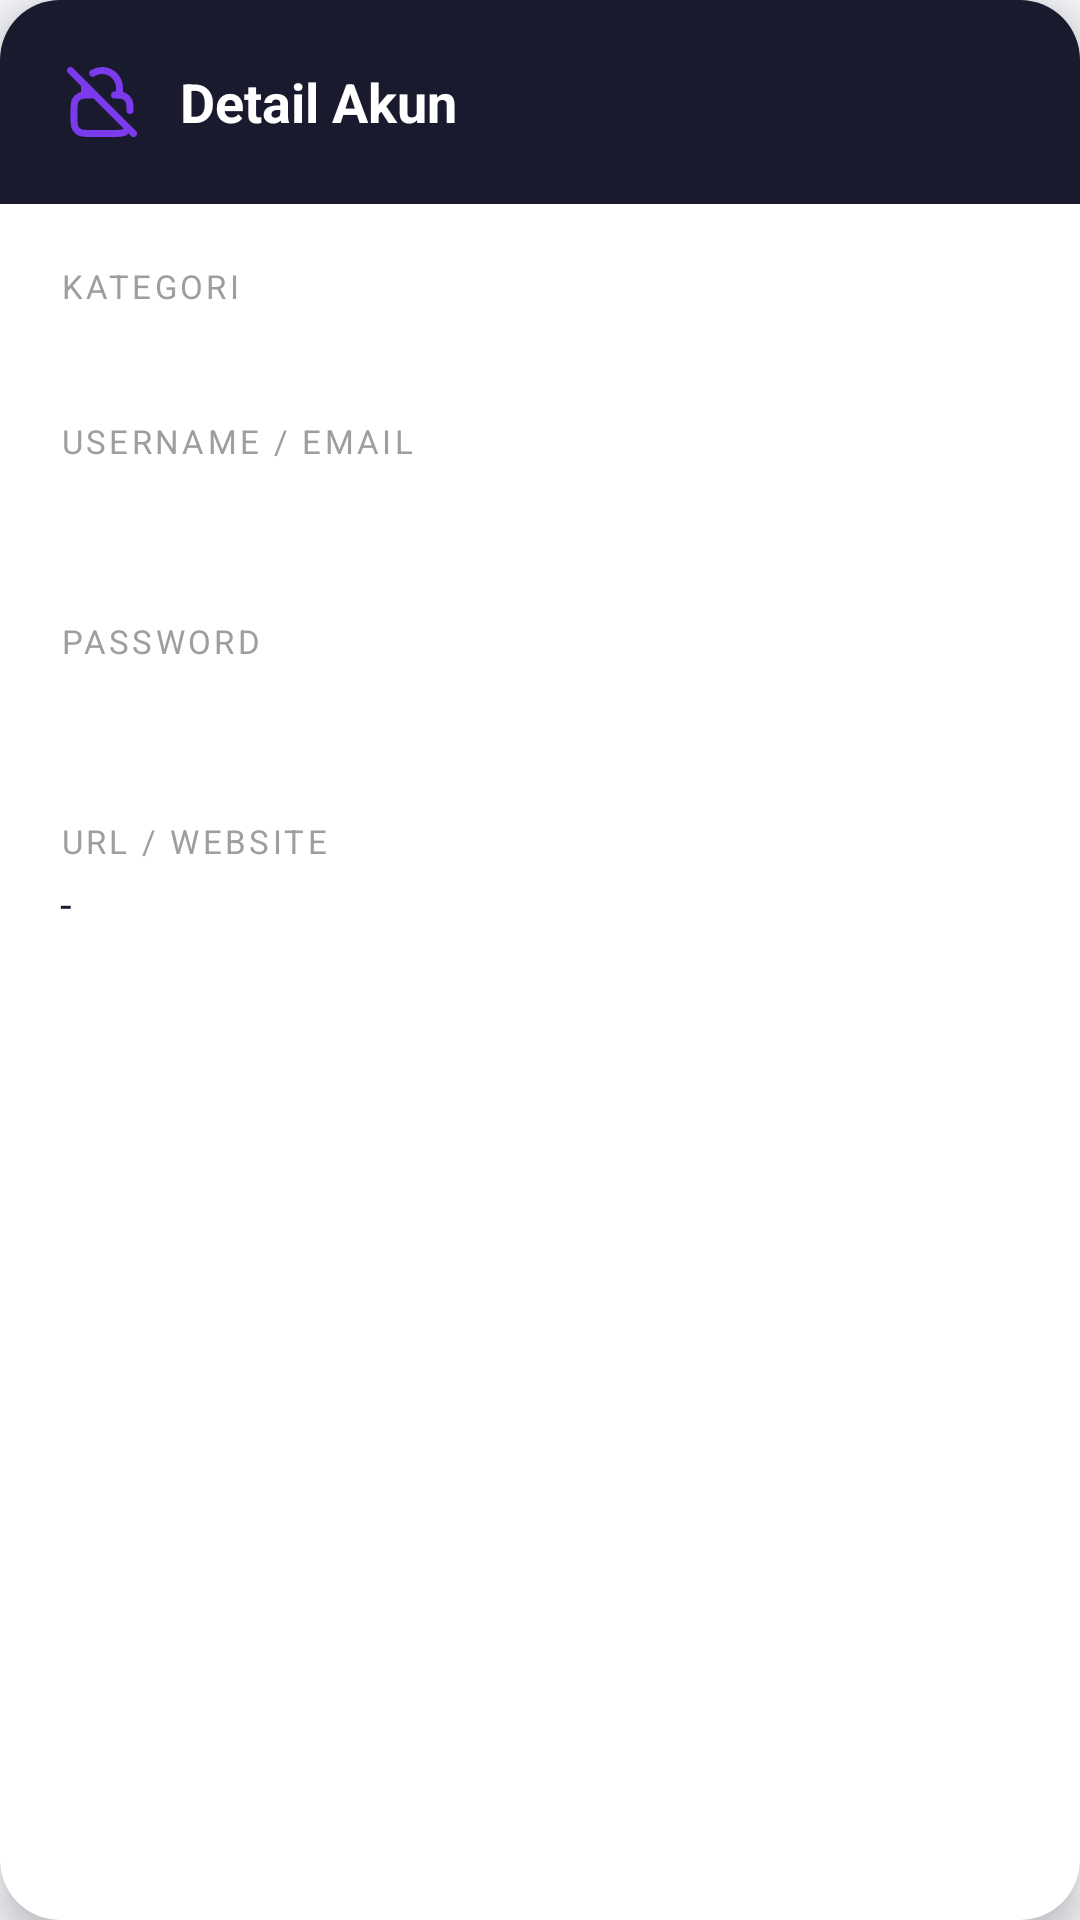

Where icons sit on this 1080*1920 app screen, as bbox(x1, y1, x2, y2):
lock: bbox(66, 66, 138, 138)
